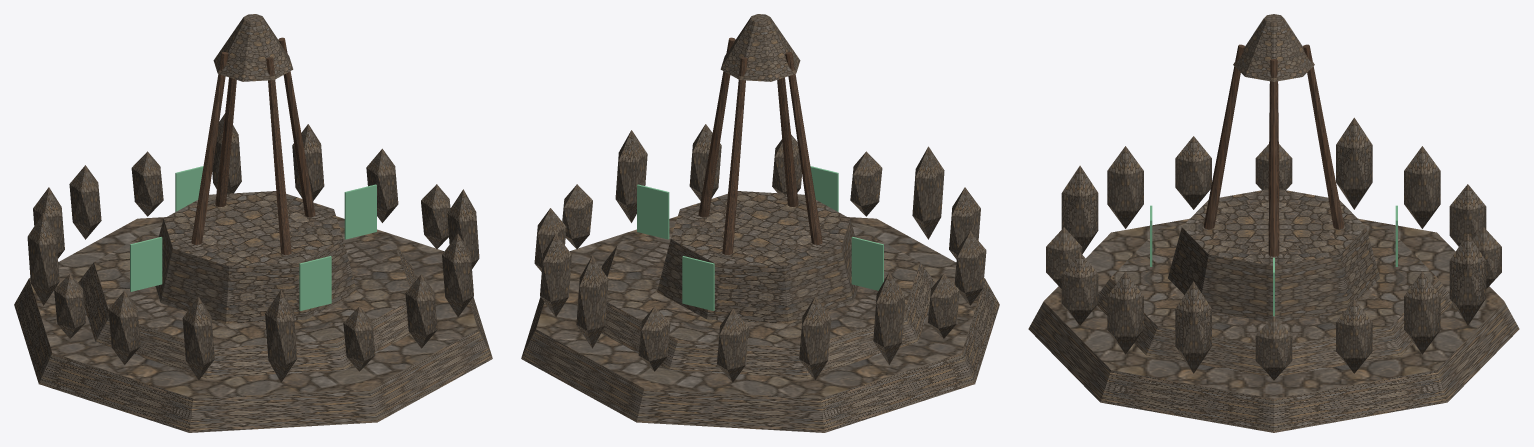
Rendered from edificio-wonder-e0-DDmaj0Al.glb.
The picture shows the model from 3 angles, left to right: view 1: azimuth 30°, elevation 25°; view 2: azimuth 150°, elevation 25°; view 3: azimuth 270°, elevation 25°; orthographic projection.
Parts seen in each view (by area): view 1: edificio-wonder-e0_envolvente, edificio-wonder-e0_detalles, edificio-wonder-e0_team_color; view 2: edificio-wonder-e0_envolvente, edificio-wonder-e0_detalles, edificio-wonder-e0_team_color; view 3: edificio-wonder-e0_envolvente, edificio-wonder-e0_detalles, edificio-wonder-e0_team_color.
Part boxes in pixels (x1=…): edificio-wonder-e0_envolvente: x1=14, y1=37, x2=492, y2=432; edificio-wonder-e0_detalles: x1=27, y1=14, x2=479, y2=382; edificio-wonder-e0_team_color: x1=130, y1=166, x2=376, y2=310; edificio-wonder-e0_envolvente: x1=521, y1=37, x2=999, y2=432; edificio-wonder-e0_detalles: x1=534, y1=14, x2=986, y2=382; edificio-wonder-e0_team_color: x1=637, y1=166, x2=883, y2=310; edificio-wonder-e0_envolvente: x1=1028, y1=44, x2=1519, y2=432; edificio-wonder-e0_detalles: x1=1046, y1=14, x2=1501, y2=380; edificio-wonder-e0_team_color: x1=1150, y1=205, x2=1397, y2=316.
Bounding box in the file's own units: 96 × 67 × 96.
Materials: 3 (2 with a texture image).
